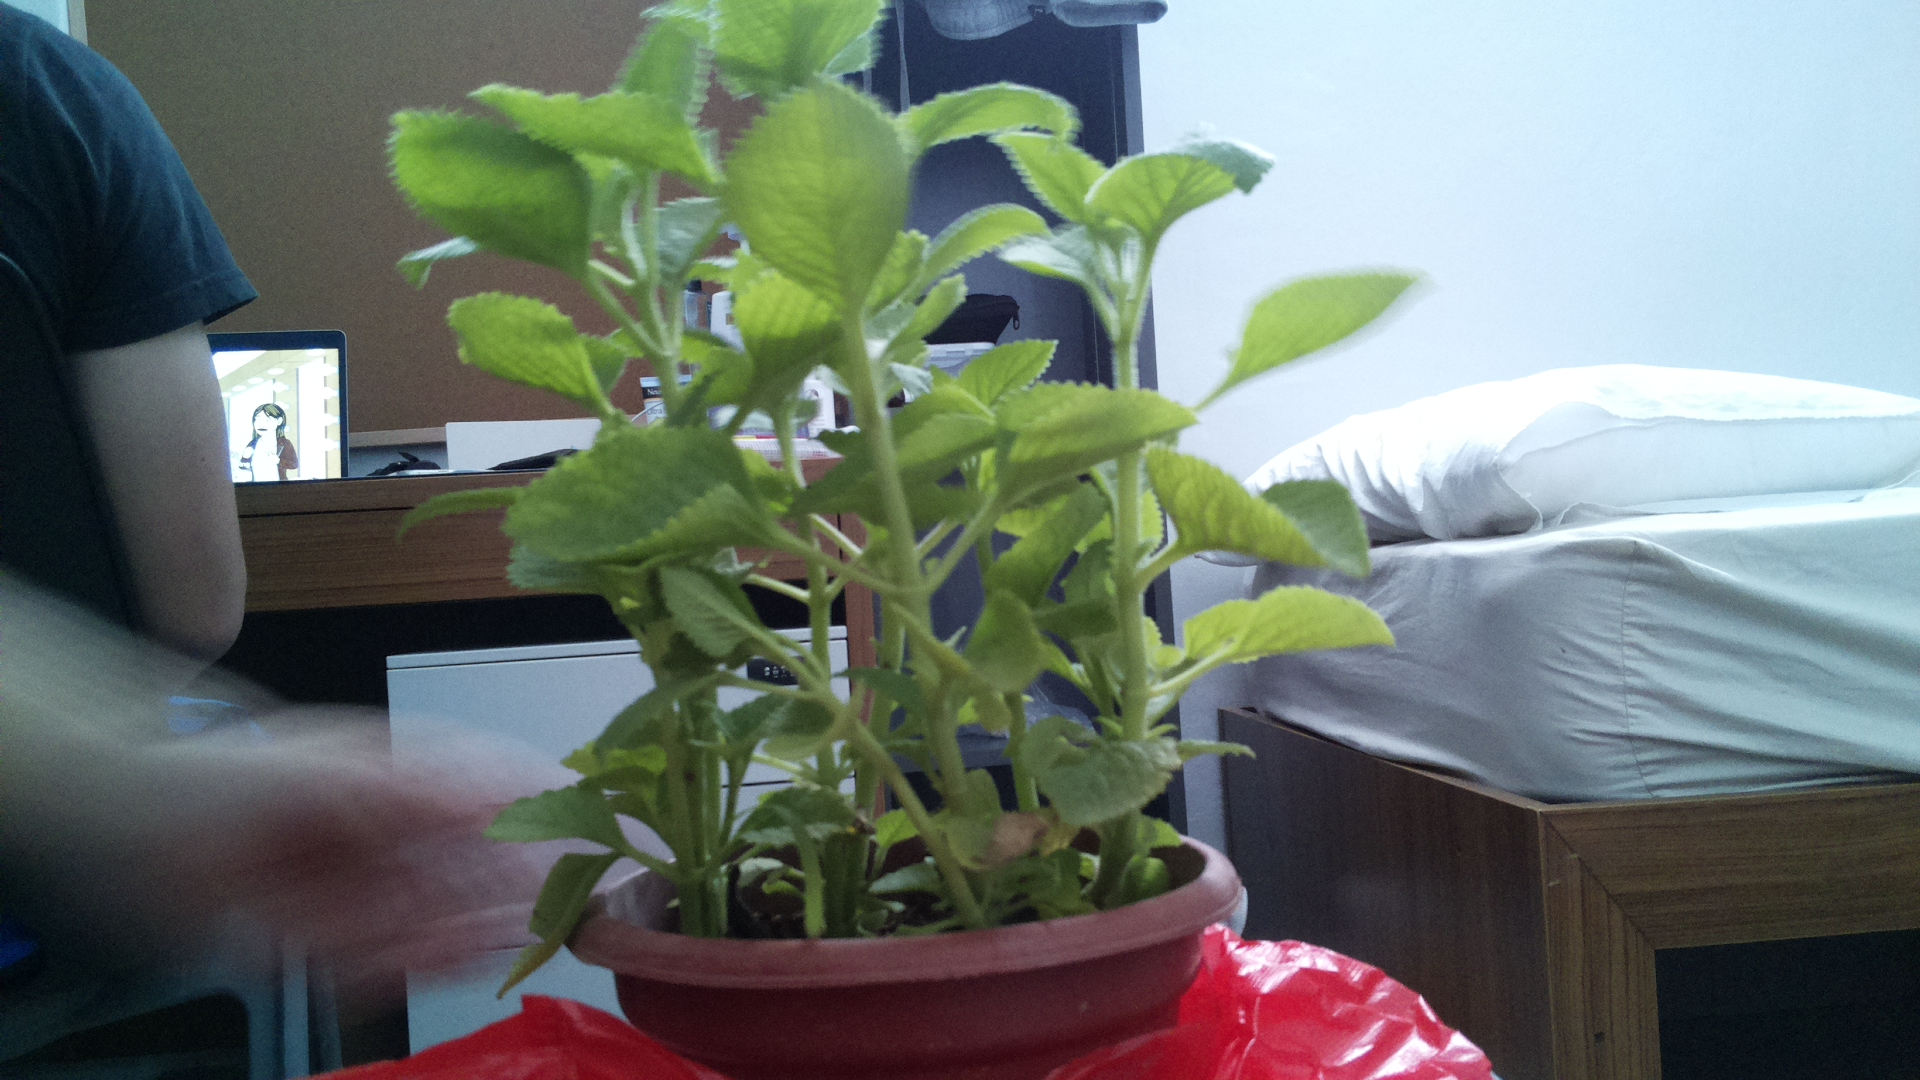leaf: (378, 94, 611, 301), (728, 73, 907, 324), (487, 422, 771, 574), (1204, 247, 1440, 402), (1143, 433, 1381, 582), (469, 63, 720, 198), (982, 382, 1207, 501), (1182, 567, 1418, 675), (484, 843, 632, 1004), (1088, 135, 1269, 244), (587, 655, 769, 764), (876, 75, 1102, 160), (1031, 735, 1200, 839), (487, 775, 632, 843)
